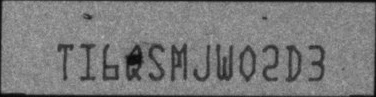2: (262, 43, 279, 83)
3: (306, 42, 325, 81)
6: (101, 43, 120, 82)
D: (285, 43, 302, 82)
I: (78, 42, 97, 81)
J: (192, 42, 210, 82)
M: (170, 42, 188, 81)
O: (236, 45, 255, 82)
Q: (126, 41, 143, 81)
S: (147, 42, 165, 81)
T: (56, 43, 75, 81)
W: (215, 43, 232, 82)
